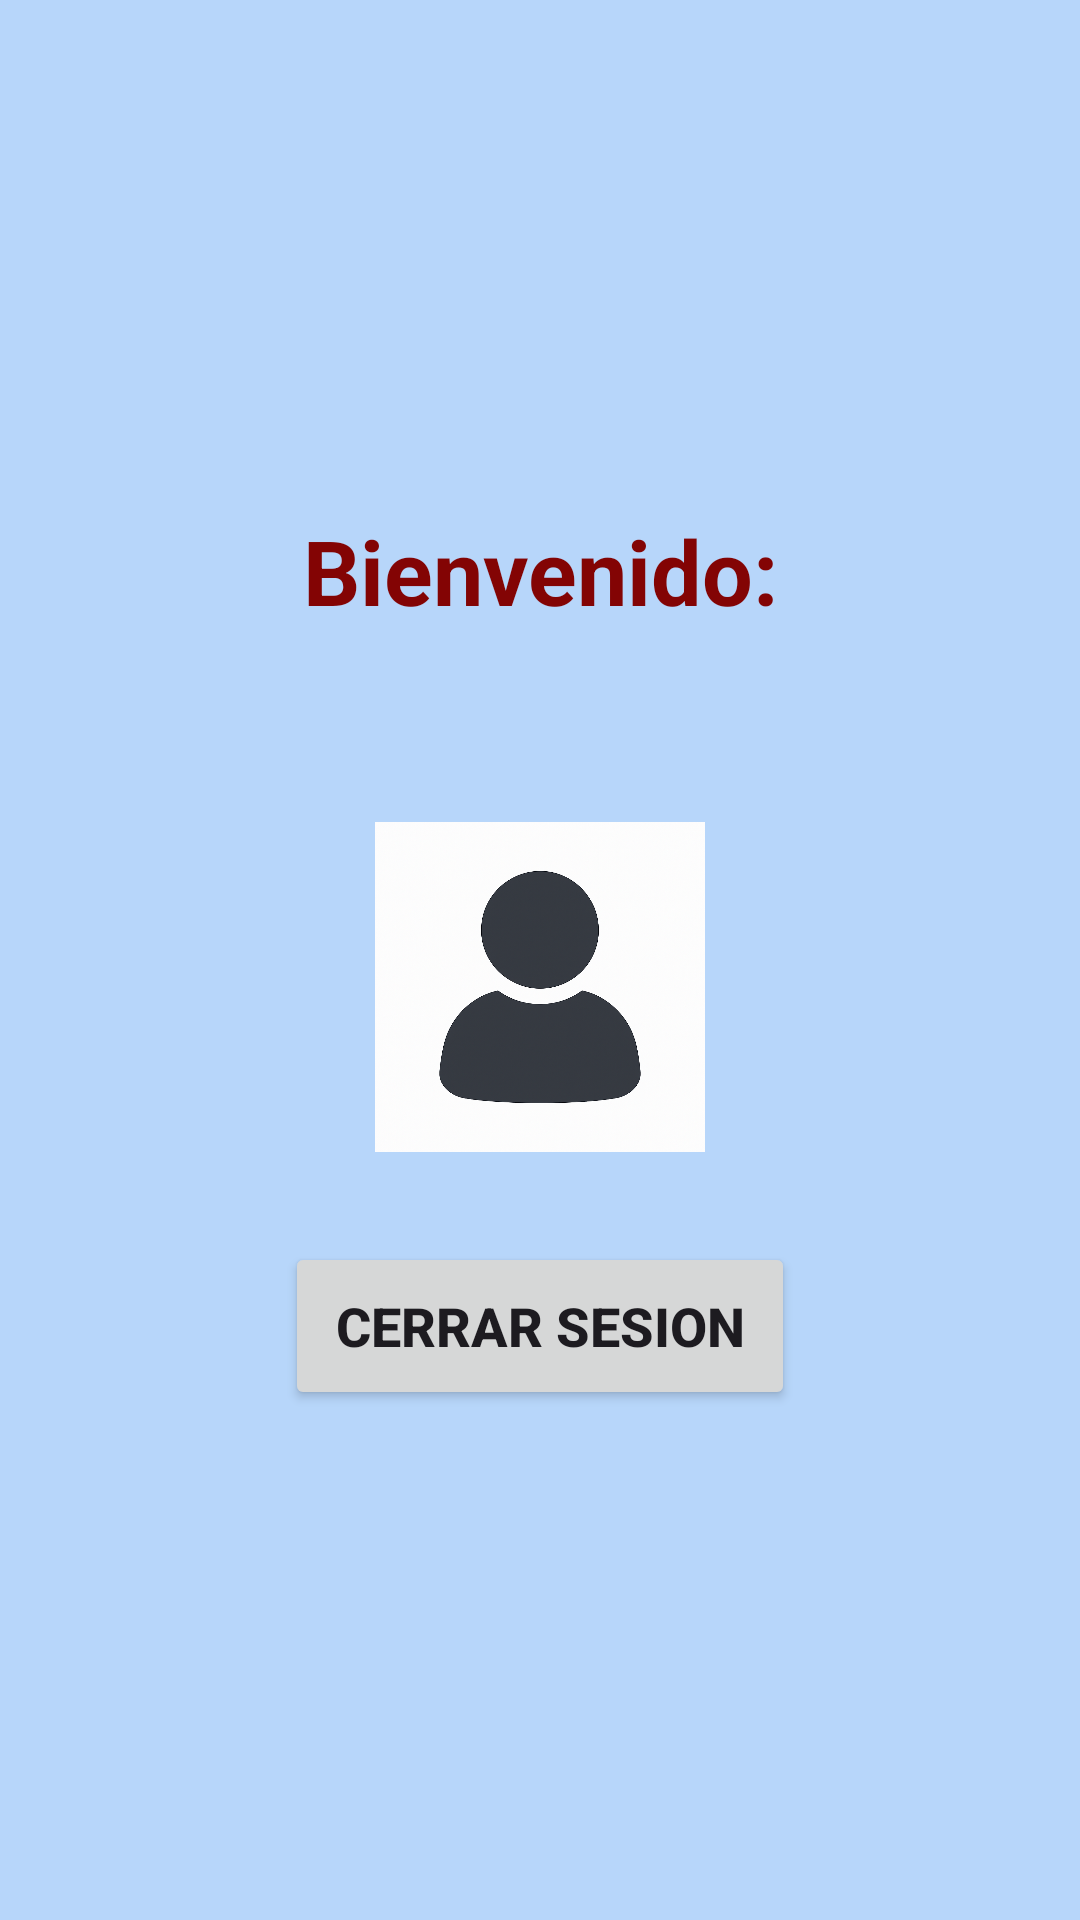

Named icons in this screenshot (1080 × 1920) and their bounding boxes, (x1, y1, x2, y2):
user: (375, 822, 705, 1152)
